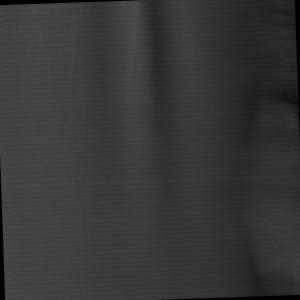Wrinkle: (61, 1, 192, 250), (217, 1, 300, 298)
